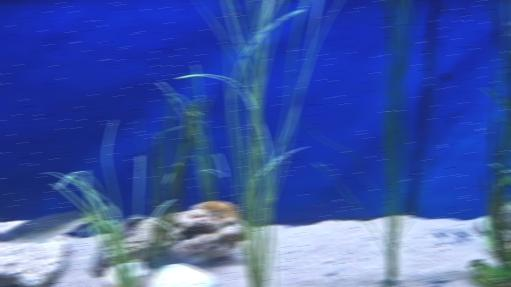Fish: (0, 210, 87, 242)
